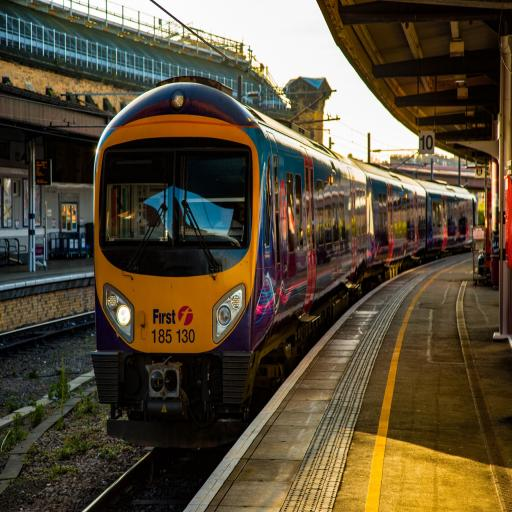platform_edge: (198, 253, 453, 511)
